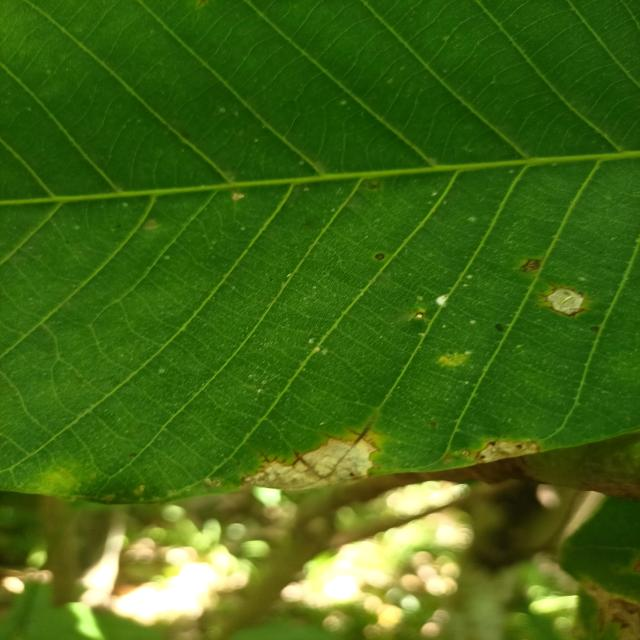Colletotrichum: (375, 253, 385, 261), (590, 326, 600, 332), (415, 312, 424, 318)
Corynespora: (347, 418, 378, 446), (258, 449, 286, 464), (290, 447, 309, 466)
Leaf-Blight: (243, 438, 378, 490), (474, 440, 540, 464), (548, 289, 583, 314)
